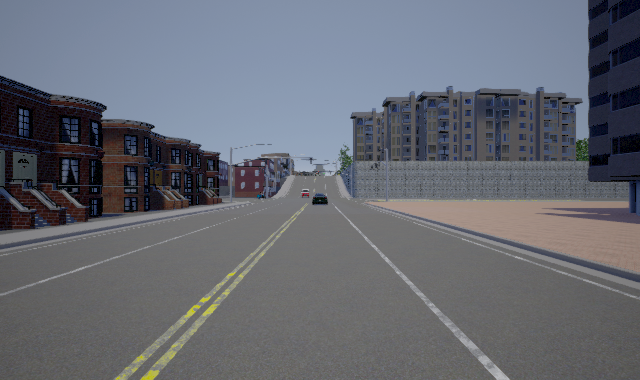vehicle: (309, 192, 331, 206), (299, 187, 310, 199)
